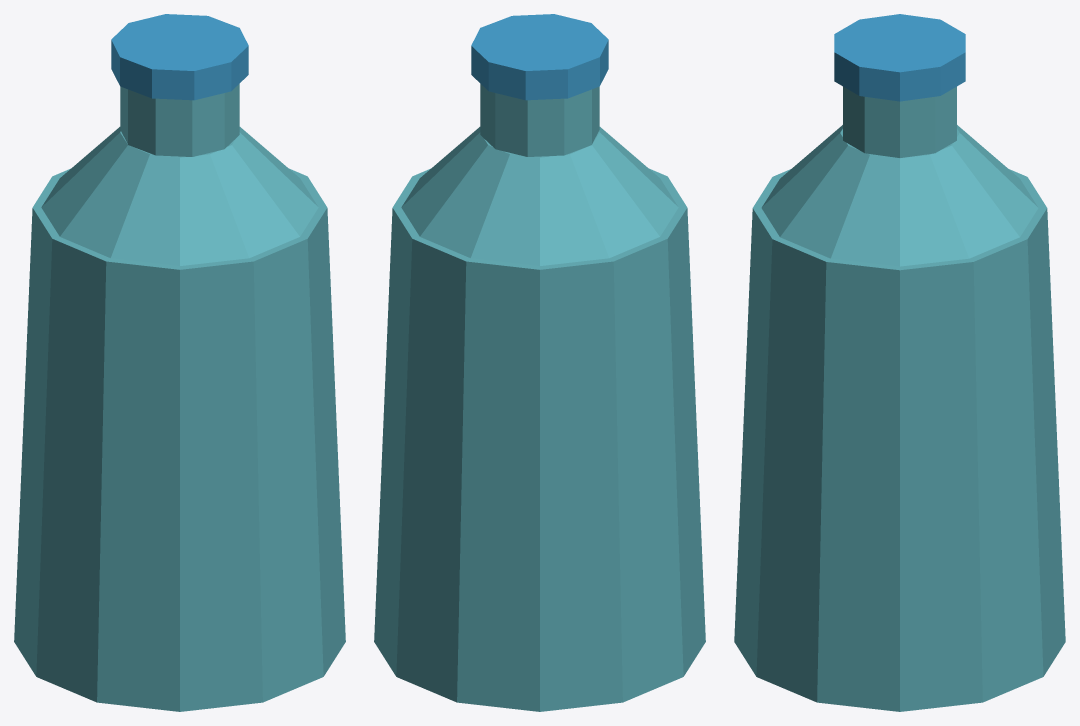
Rendered from TR3_WaterContainer_WaterJug.glb.
The picture shows the model from 3 angles, left to right: view 1: azimuth 30°, elevation 25°; view 2: azimuth 150°, elevation 25°; view 3: azimuth 270°, elevation 25°; orthographic projection.
Visible parts, largest first — view 1: TR3_WaterContainer_WaterJug; view 2: TR3_WaterContainer_WaterJug; view 3: TR3_WaterContainer_WaterJug.
Boxes of the visible parts, x1,y1,x2,y2 form: TR3_WaterContainer_WaterJug: (14, 14, 345, 711); TR3_WaterContainer_WaterJug: (374, 14, 705, 711); TR3_WaterContainer_WaterJug: (734, 14, 1065, 711).
Size of the model in its own units: 0.36 by 0.7175 by 0.36.
